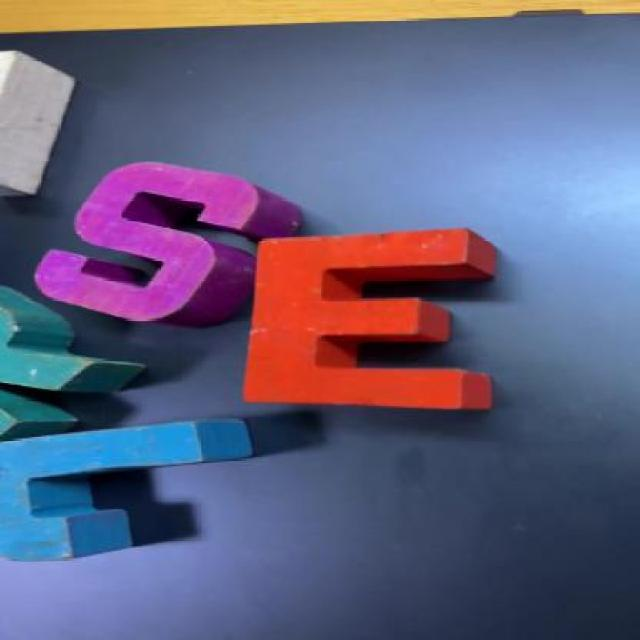E: (224, 224, 493, 418)
S: (61, 162, 308, 328)
